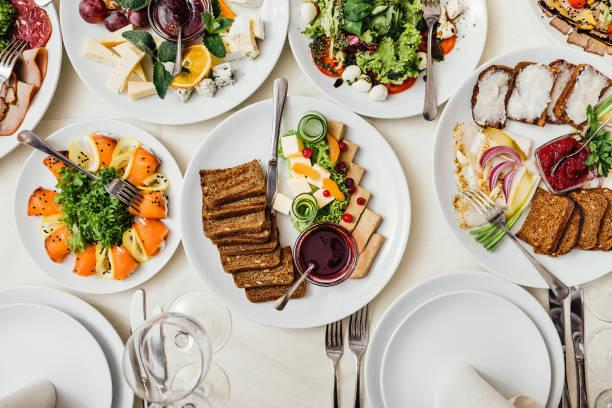Braised Crucian Carp: (179, 94, 401, 329), (432, 47, 609, 288), (12, 119, 181, 294), (59, 1, 286, 126), (287, 0, 476, 119)
